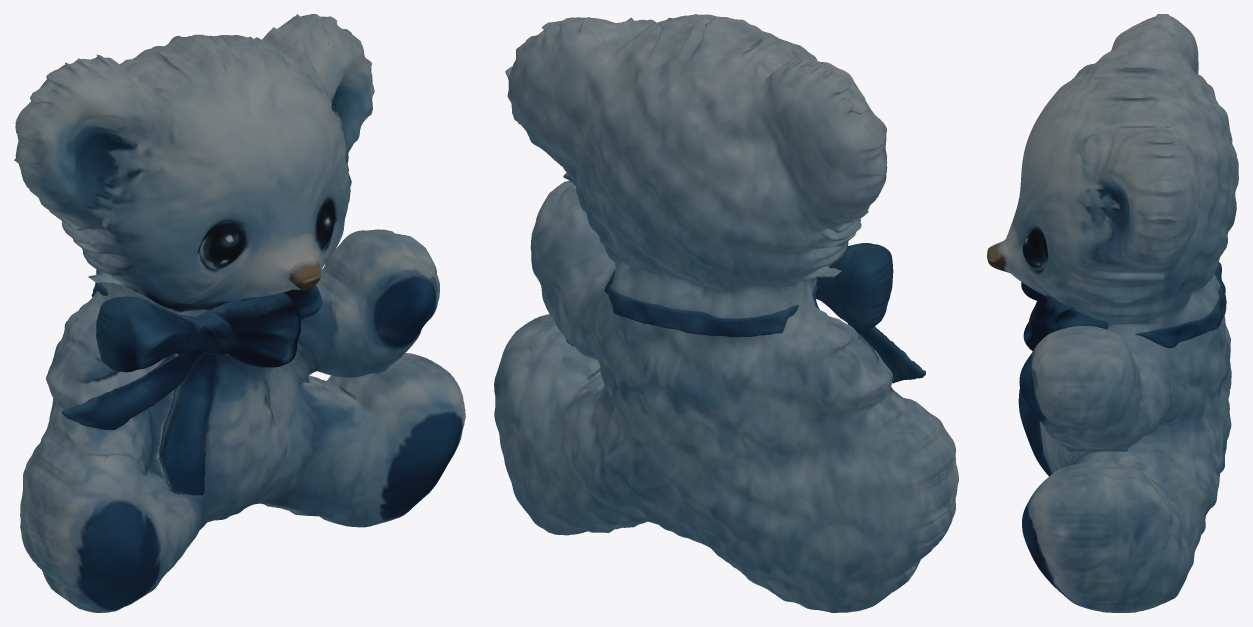
File: teddyta.glb
3 views of the same model, side by side, from view 1: azimuth 30°, elevation 25°; view 2: azimuth 150°, elevation 25°; view 3: azimuth 270°, elevation 25° (orthographic). The views are drawn at different scales.
Visible parts, largest first — view 1: Blue Teddy Bear; view 2: Blue Teddy Bear; view 3: Blue Teddy Bear.
Part boxes in pixels (bbox=[...]): Blue Teddy Bear: bbox=[14, 14, 465, 612]; Blue Teddy Bear: bbox=[494, 14, 958, 612]; Blue Teddy Bear: bbox=[987, 14, 1238, 612].
Size of the model in its own units: 0.2049 by 0.25 by 0.1152.
Materials: 2 (2 with a texture image).
